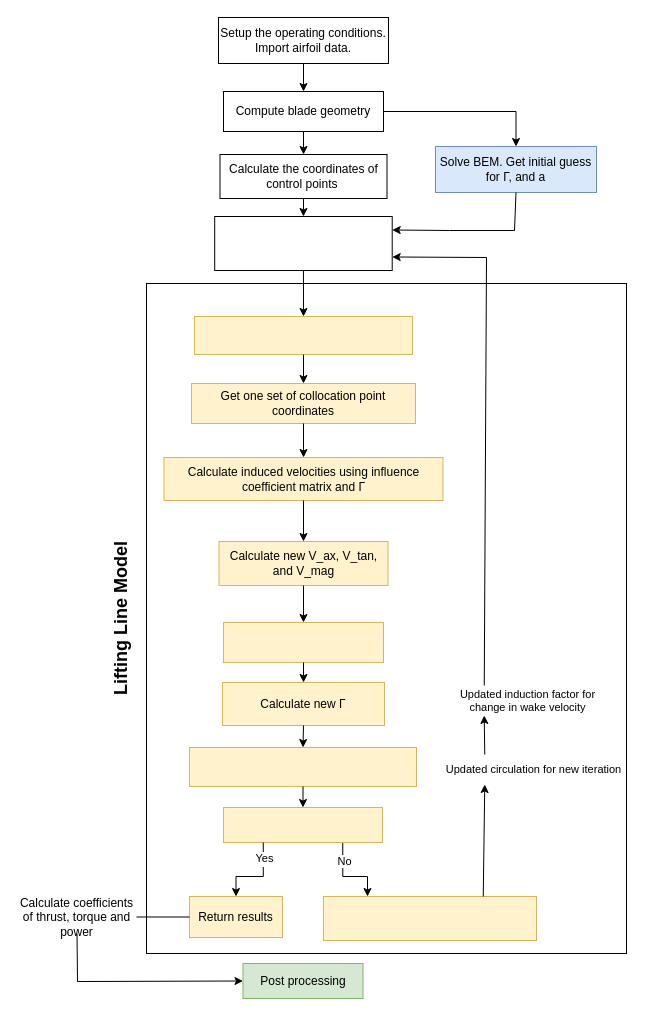
The diagram is 649 pixels wide and 1016 high, and some of its shapes have lost their labels. The shapes that lost their labels are listed below. From the top down, each one's centre as x and y in pixels, then its label:
point (303, 243): Model wake geometry
point (303, 335): Calculate the influence coefficient
point (303, 642): Compute φ, α, Cl, Cd, F_ax, F_tan
point (302, 766): Compute new a_ax, a_tan
point (302, 824): Converged? | Γ(new) - Γ(old) | < tolerance
point (429, 918): Update Γ using prescribed relaxation
